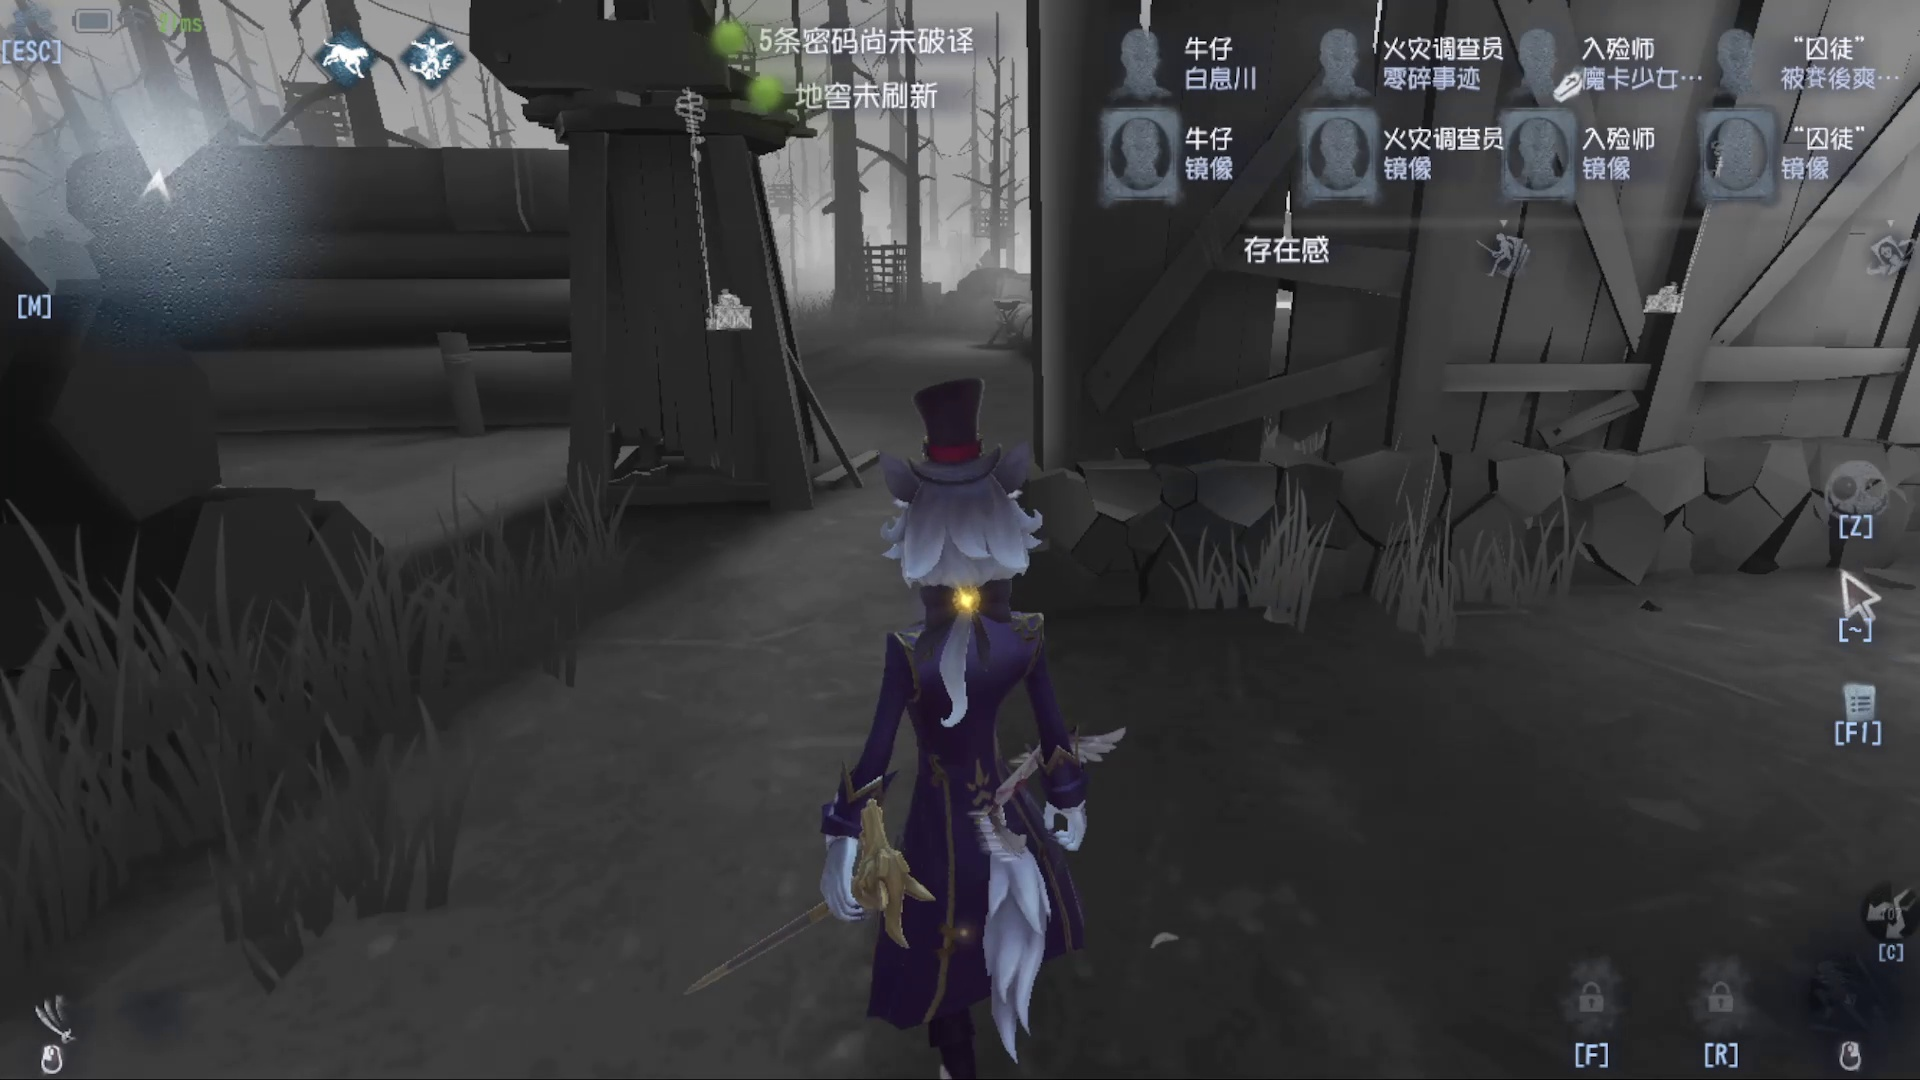密码机: (636, 54, 773, 368)
